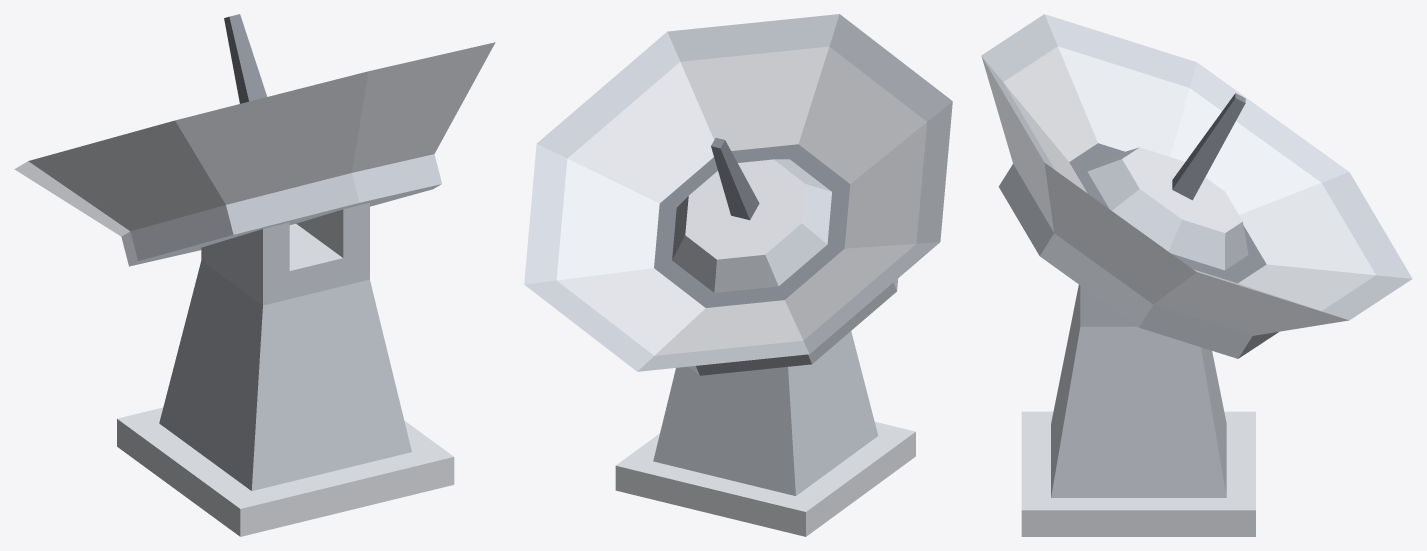
The model's file is satelliteDish_large.glb.
3 renders of one model, left to right at view 1: azimuth 30°, elevation 25°; view 2: azimuth 150°, elevation 25°; view 3: azimuth 270°, elevation 25°, orthographic. The views are drawn at different scales.
Visible parts, largest first — view 1: satelliteDish_large; view 2: satelliteDish_large; view 3: satelliteDish_large.
Boxes of the visible parts, x1=… form: satelliteDish_large: x1=14, y1=14, x2=495, y2=536; satelliteDish_large: x1=524, y1=14, x2=952, y2=536; satelliteDish_large: x1=981, y1=14, x2=1412, y2=536.
Bounding box in the file's own units: 0.8487 × 0.8142 × 0.7369.
1 material, 1 textured.
